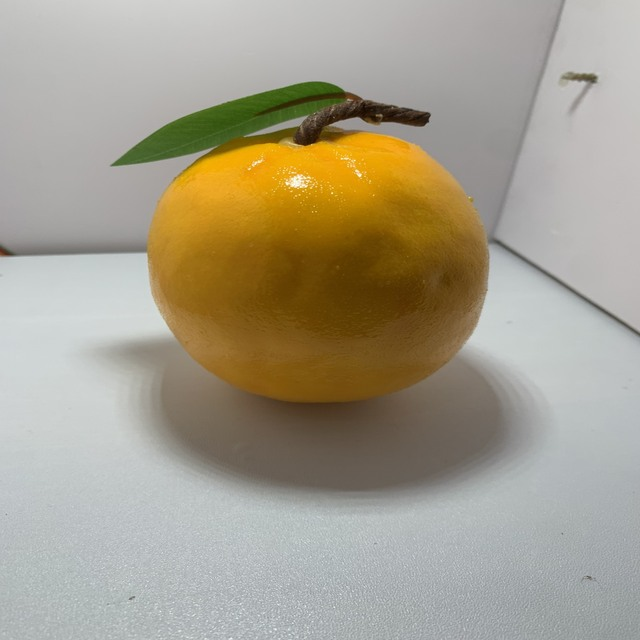Cam vang: (141, 84, 495, 409)
